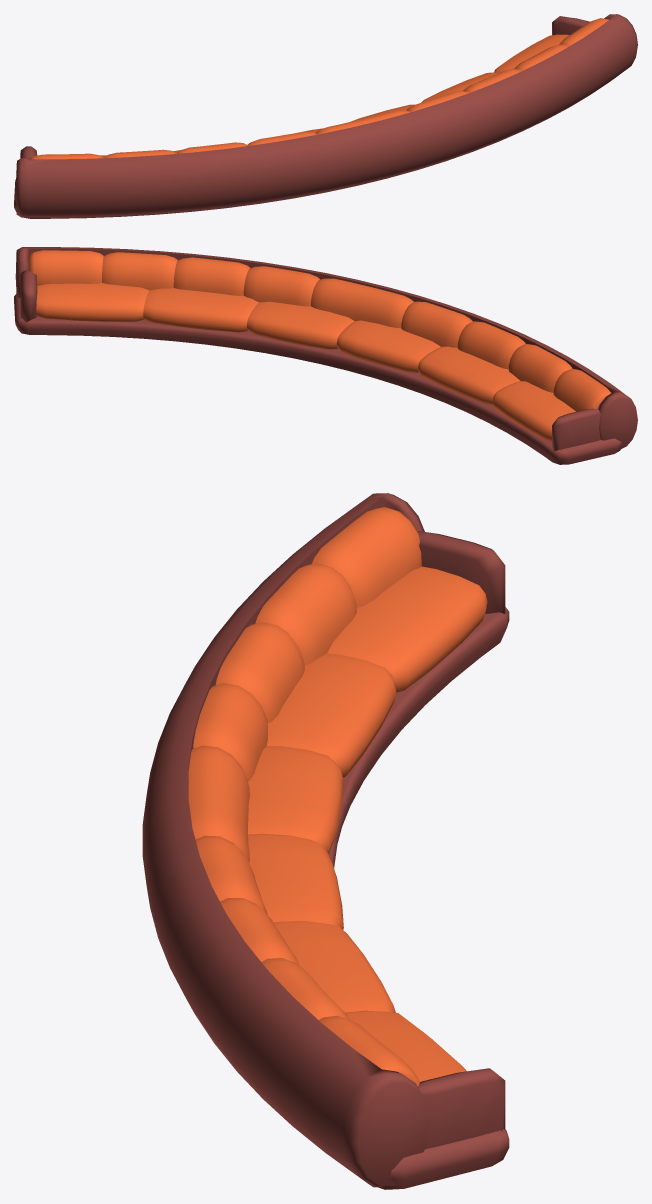
File: SM_GameArea_Sofa_04.fbx
The picture shows the model from 3 angles, top to bottom: view 1: azimuth 30°, elevation 25°; view 2: azimuth 150°, elevation 25°; view 3: azimuth 270°, elevation 25°; orthographic projection. The views are drawn at different scales.
Parts seen in each view (by area): view 1: SM_GameArea_Sofa_04; view 2: SM_GameArea_Sofa_04; view 3: SM_GameArea_Sofa_04.
Boxes of the visible parts, x1,y1,x2,y2 form: SM_GameArea_Sofa_04: (14, 14, 637, 218); SM_GameArea_Sofa_04: (14, 247, 637, 464); SM_GameArea_Sofa_04: (142, 493, 509, 1189).
Size of what is drawn, in the model's own units: 65.14 by 5.71 by 16.64.
